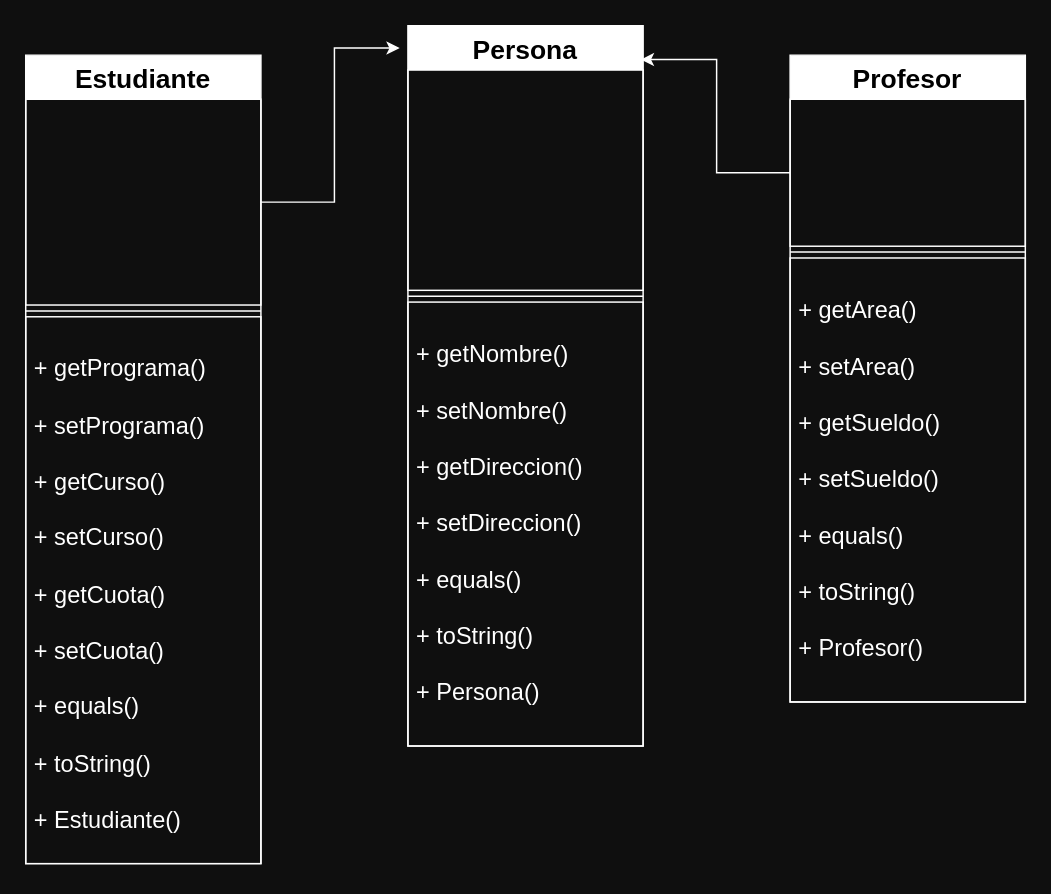
Image size: 1051x894. Some labels were removed from this diagram. Here are the shapes that lost their labels. From the top down, the centre of each, then its label:
At point 524,179: "- nombre: String - direccion: String # ran: Random".
At point 907,172: "- area: String - sueldo: int".
At point 142,201: "- programa: String - curso: String - cuota: int".
